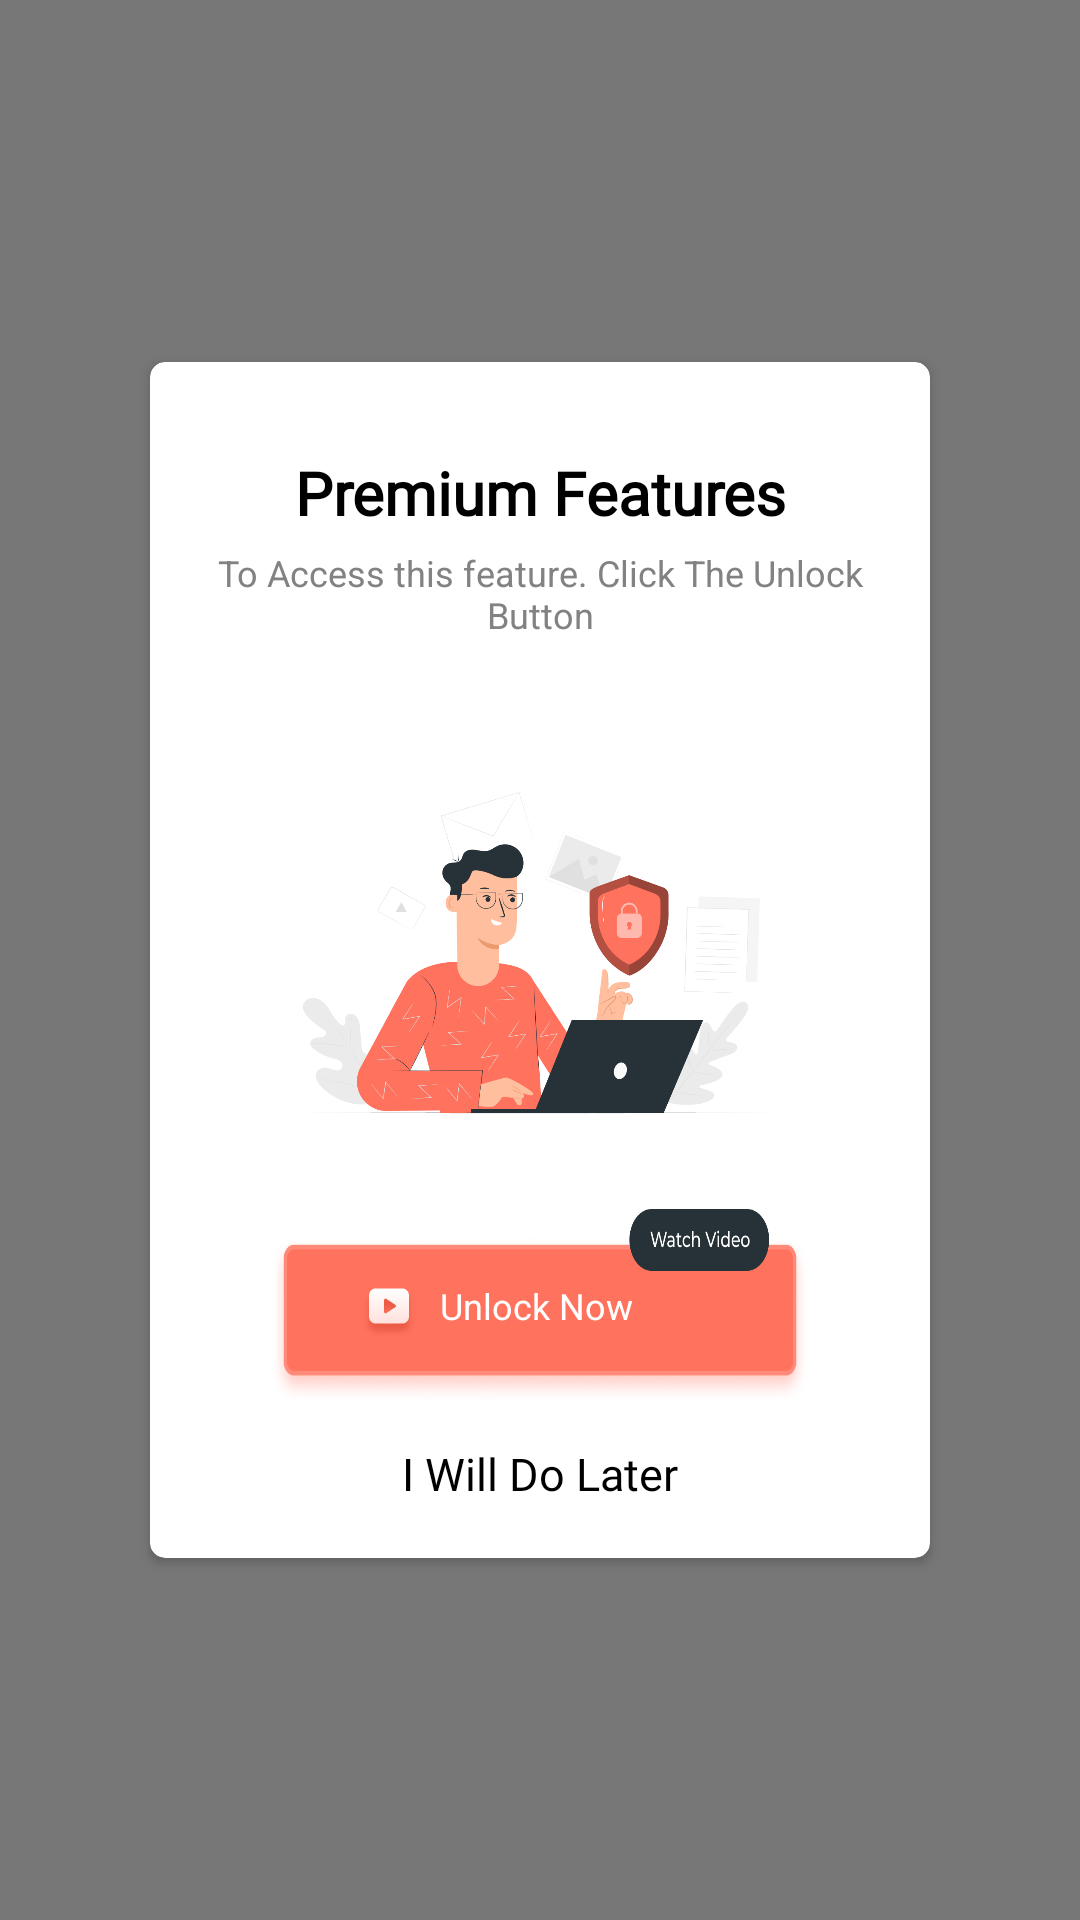

Icon bounding boxes for this 1080px x 1920px phone screenshot, format box(x1, y1, x2, y2):
play: box(369, 1288, 409, 1326)
